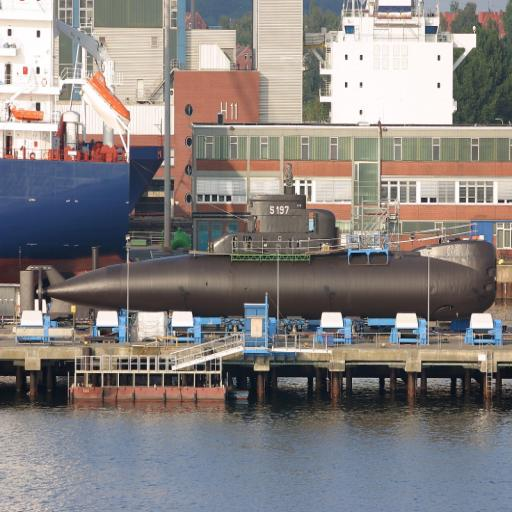submarine: (45, 197, 500, 318)
